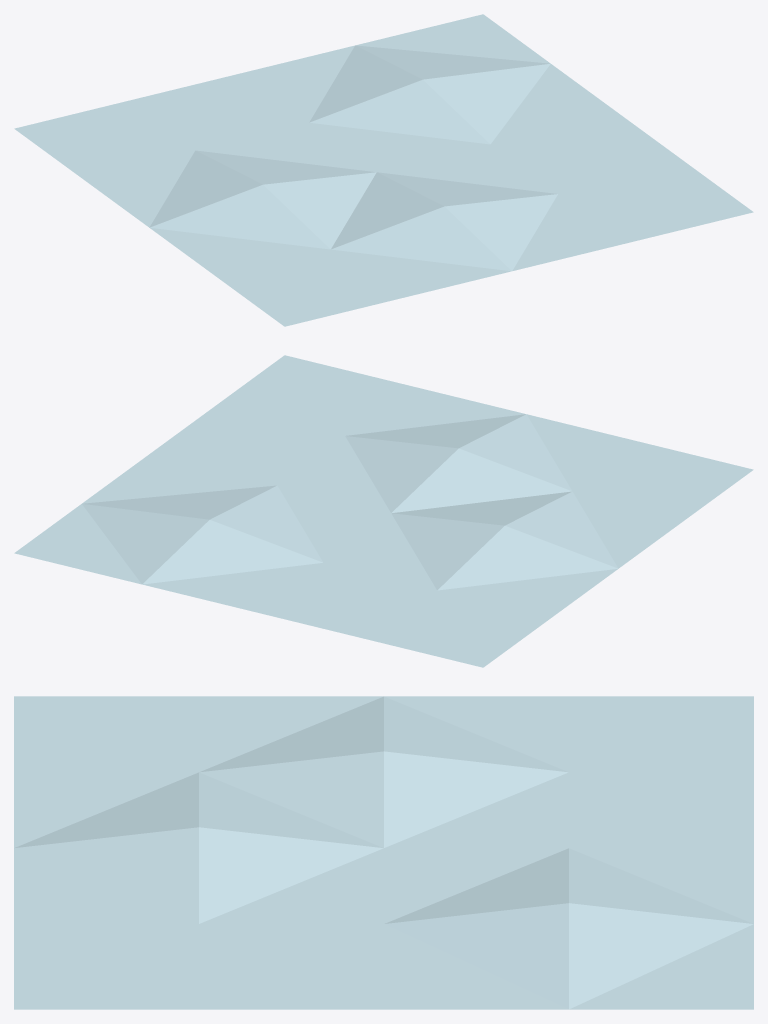
The model's file is SM_Env_Path_Snow_01_Snow.glb.
3 renders of one model, top to bottom at view 1: azimuth 30°, elevation 25°; view 2: azimuth 150°, elevation 25°; view 3: azimuth 270°, elevation 25°, orthographic. The views are drawn at different scales.
Parts seen in each view (by area): view 1: SM_Env_Path_Snow_01_Snow; view 2: SM_Env_Path_Snow_01_Snow; view 3: SM_Env_Path_Snow_01_Snow.
Part boxes in pixels (x1,y1,x2,y2): SM_Env_Path_Snow_01_Snow: (14,14,753,326); SM_Env_Path_Snow_01_Snow: (14,355,753,667); SM_Env_Path_Snow_01_Snow: (14,696,753,1009).
Size of the model in its own units: 3 by 0.0937 by 3.
Materials: 1 (1 with a texture image).
